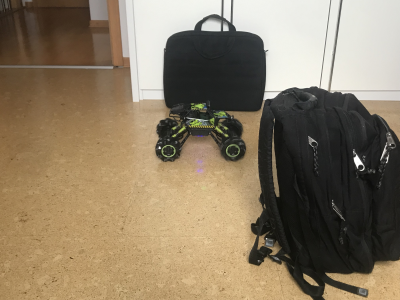remote control car: (154, 99, 246, 164)
